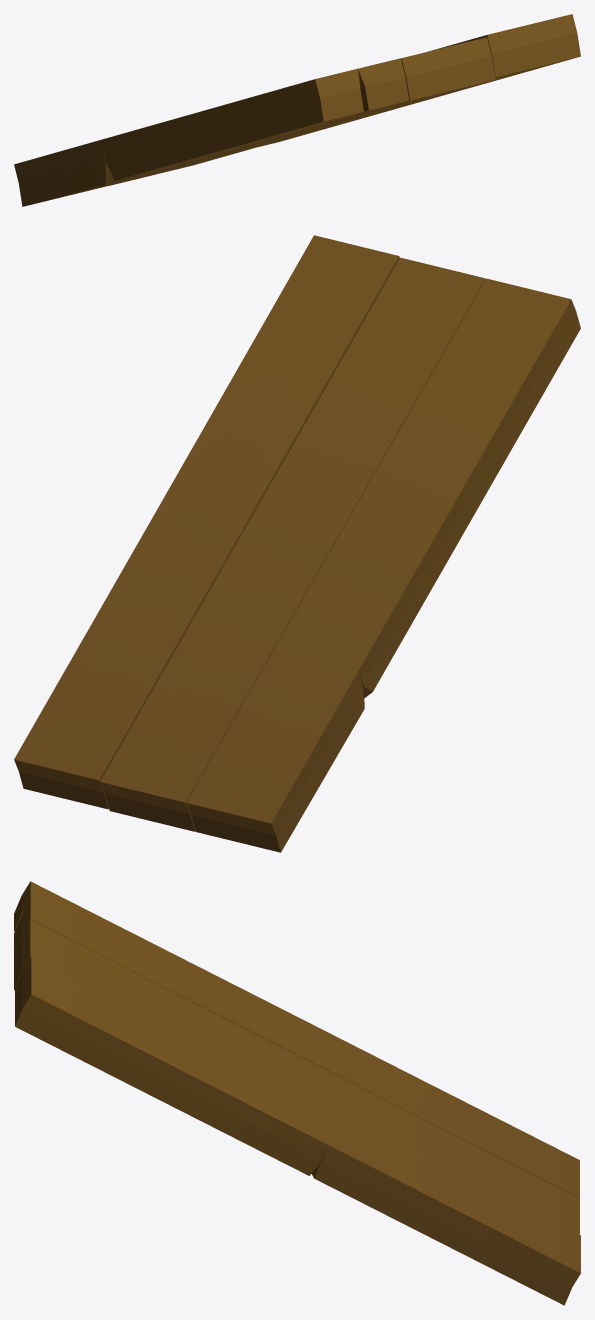
File: HalfWoodenRoof.fbx
3 views of the same model, one above another, from view 1: azimuth 30°, elevation 25°; view 2: azimuth 150°, elevation 25°; view 3: azimuth 270°, elevation 25° (orthographic). The views are drawn at different scales.
Parts seen in each view (by area): view 1: Door_02.007; view 2: Door_02.007; view 3: Door_02.007.
Boxes of the visible parts, x1,y1,x2,y2 form: Door_02.007: [14, 14, 580, 206]; Door_02.007: [14, 235, 580, 852]; Door_02.007: [14, 881, 580, 1305].
Size of the model in its own units: 85.25 by 108 by 177.
